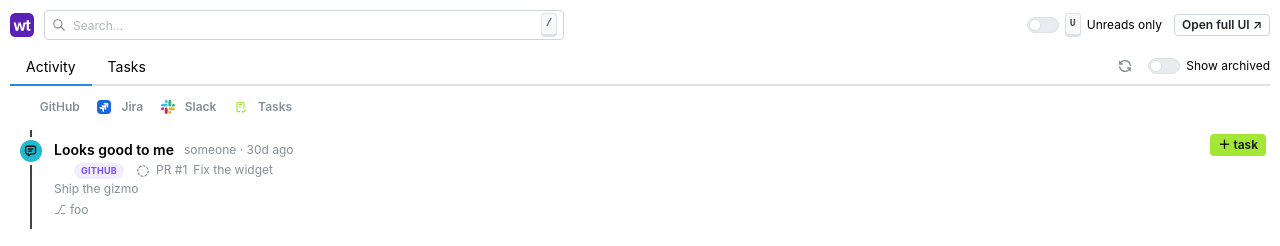
MiniPage › an event row's tooltip says it opens details here, not in a worktree
The image size is (1280, 246).
Hover over the text "Looks good to me": (114, 150) [54, 140, 174, 160]
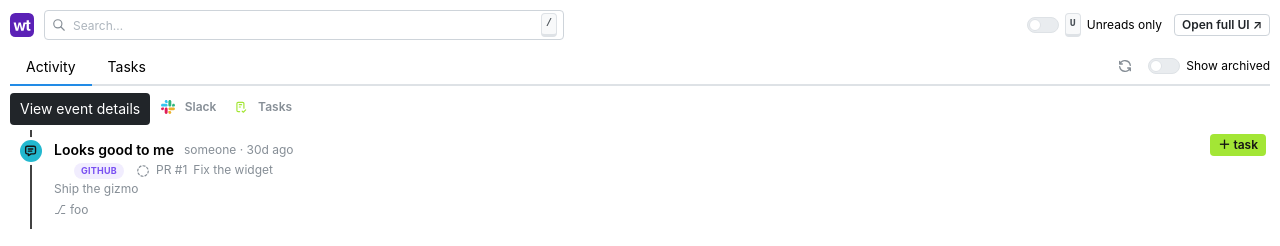
expect the tooltip "View event details" is shown: met, box [10, 93, 150, 125]
